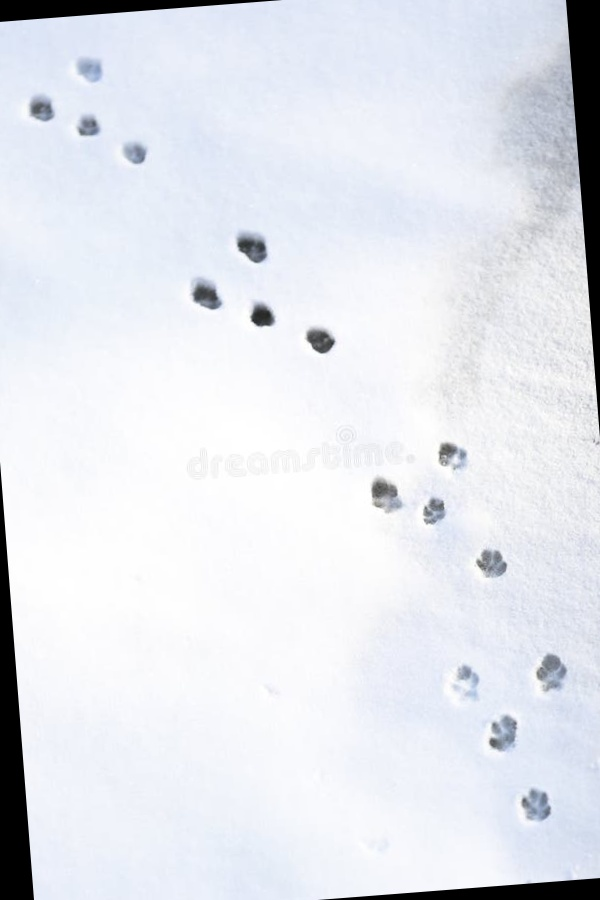rabbit: (157, 199, 375, 420)
